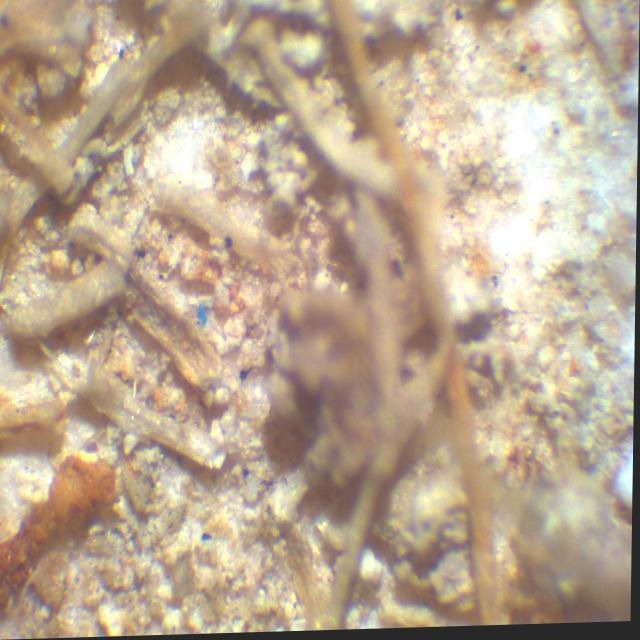microplastic: (198, 305, 209, 330)
